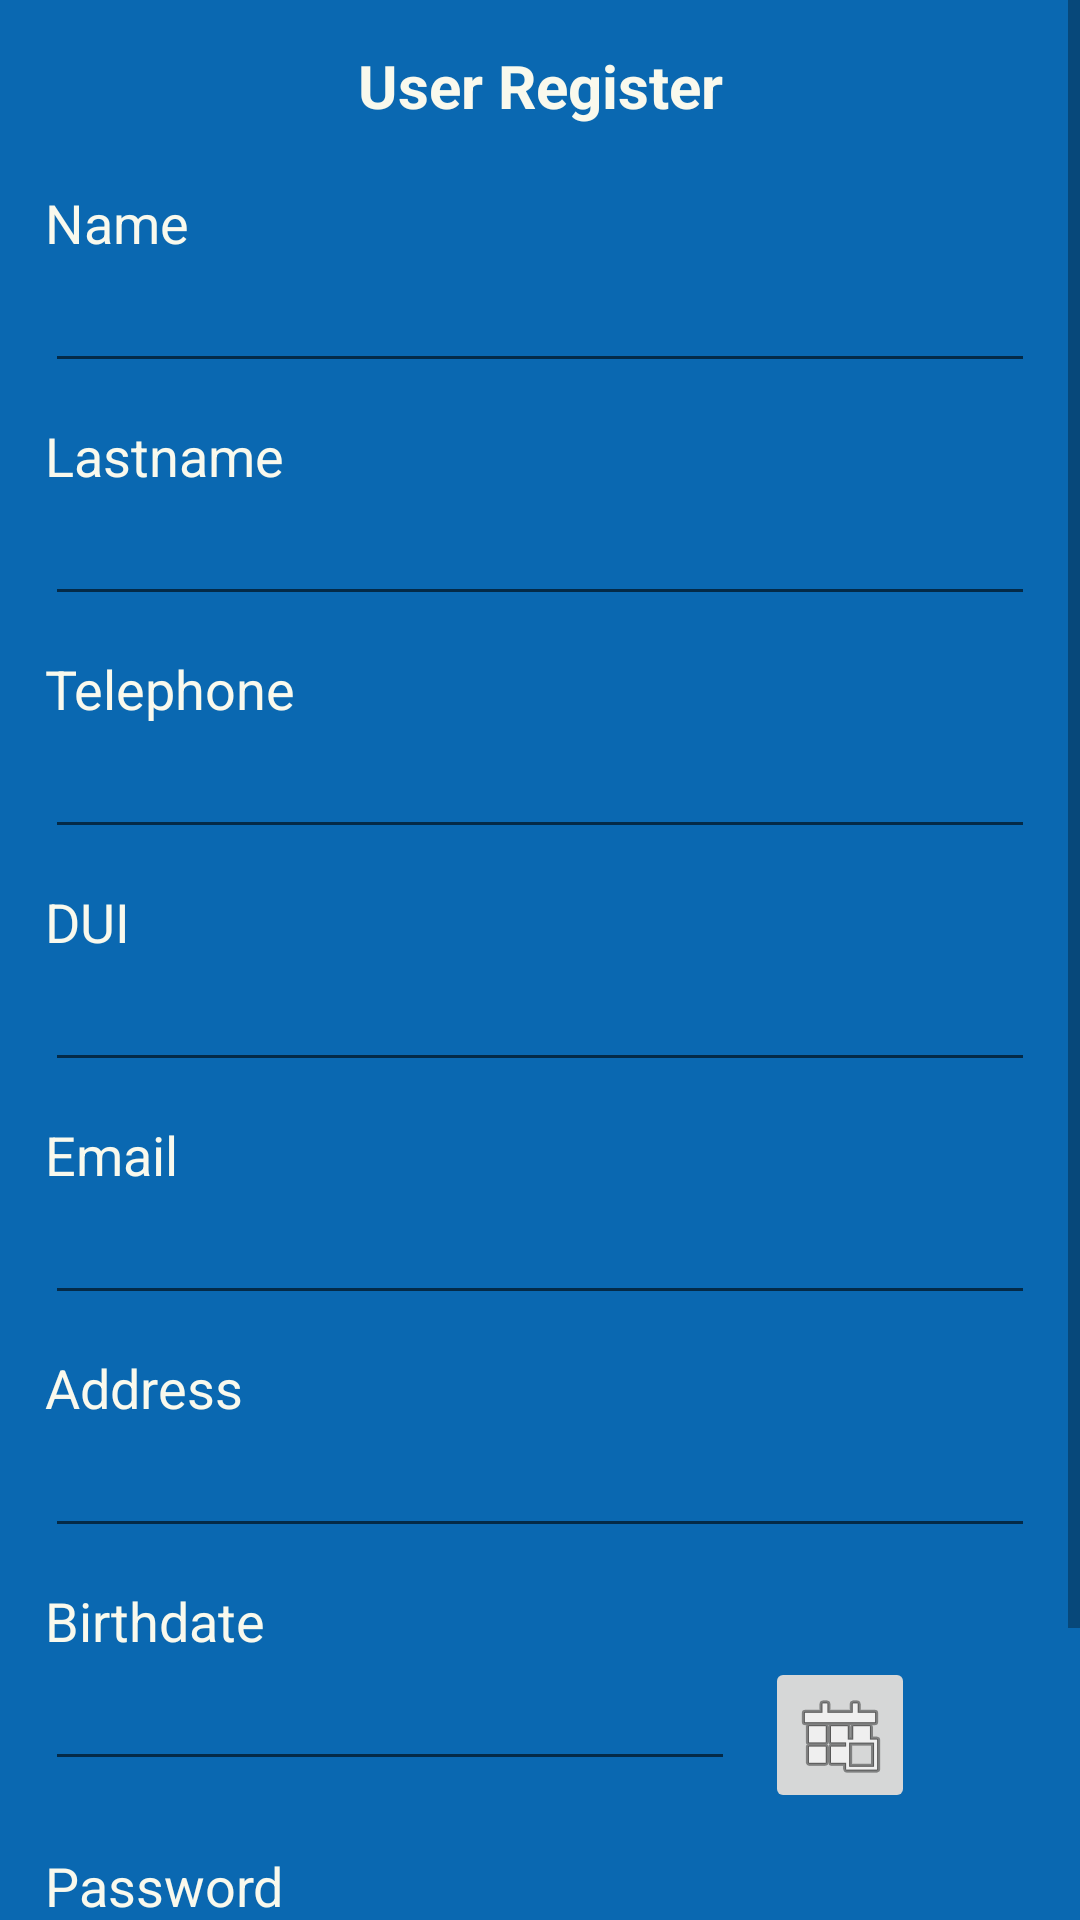

Named icons in this screenshot (1080 × 1920) and their bounding boxes, (x1, y1, x2, y2):
today: (777, 1675, 903, 1795)
